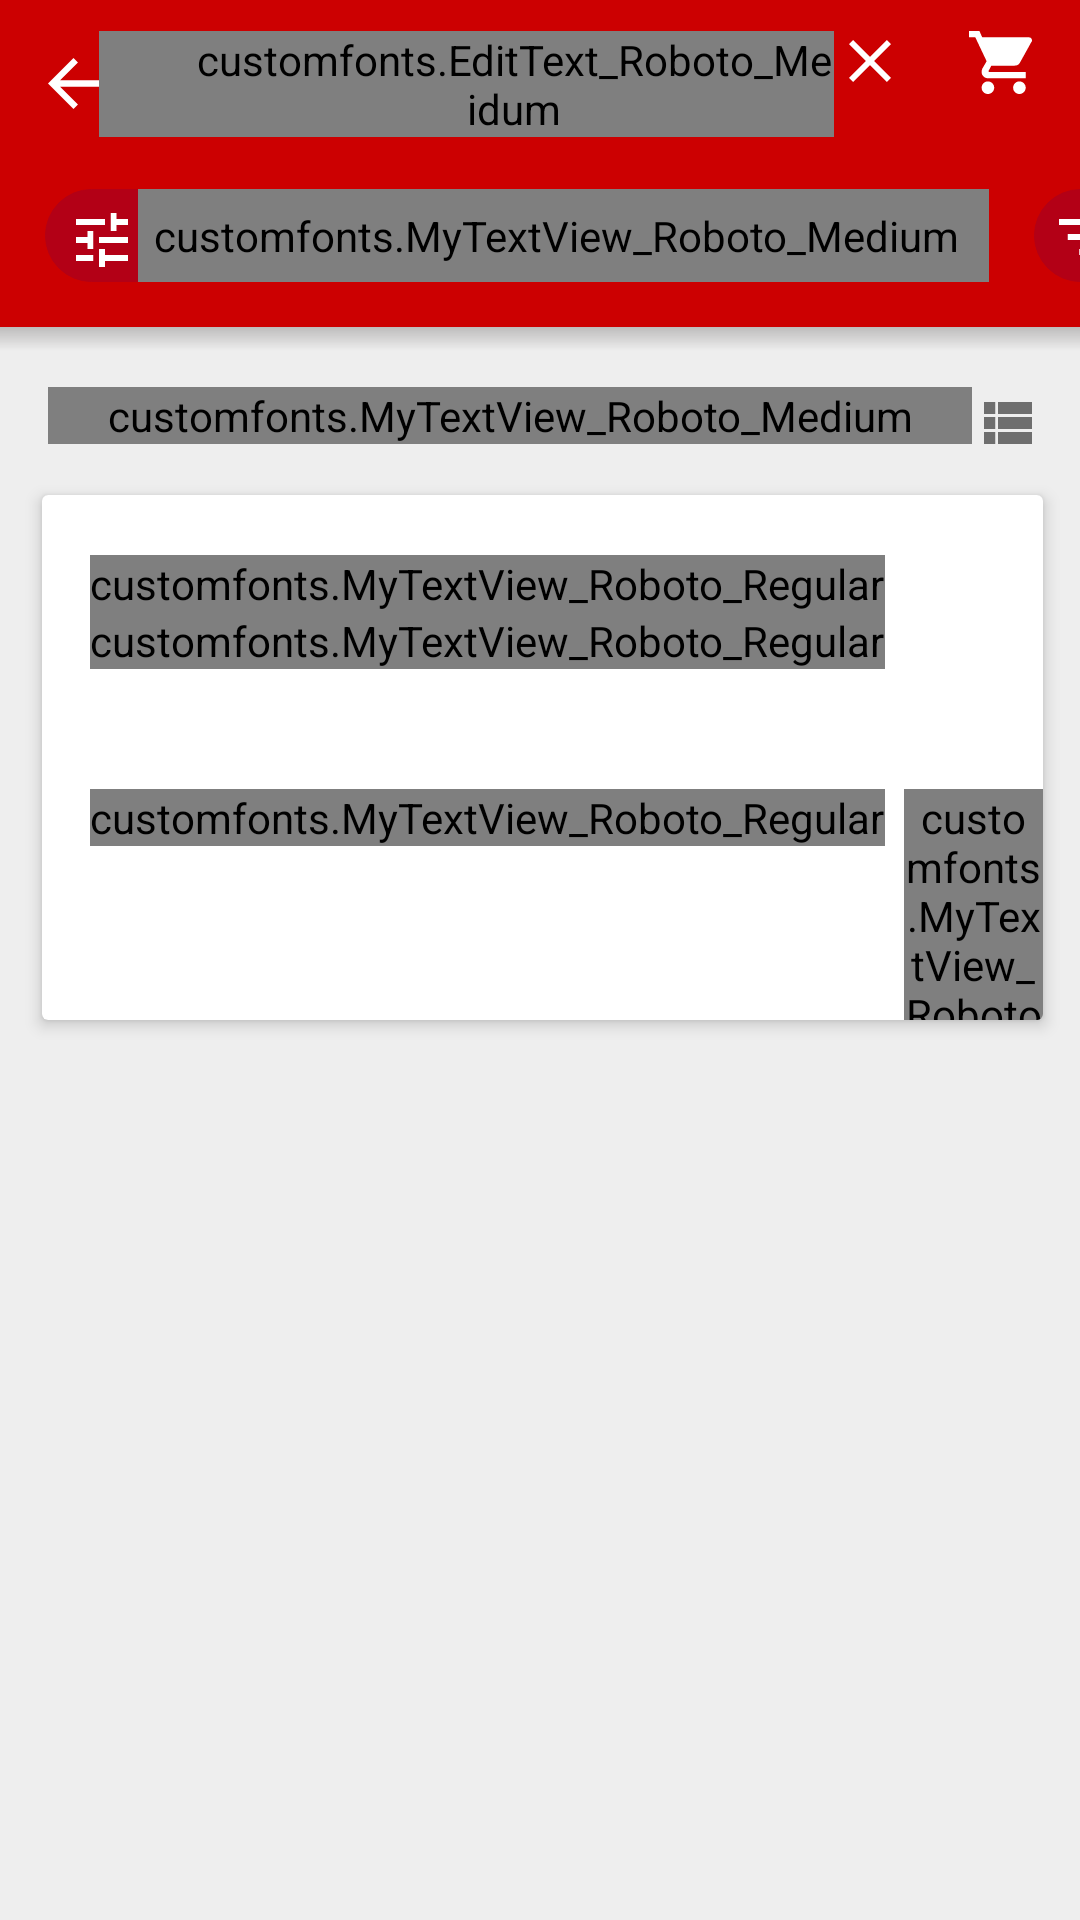

Point at icon controls on the screen. Image size 1080×1920, points as (x,y).
clear: (870,61)
go back left arrow: (73,83)
shopping cart: (1000,62)
tune: (91,235)
view list: (1008,423)
